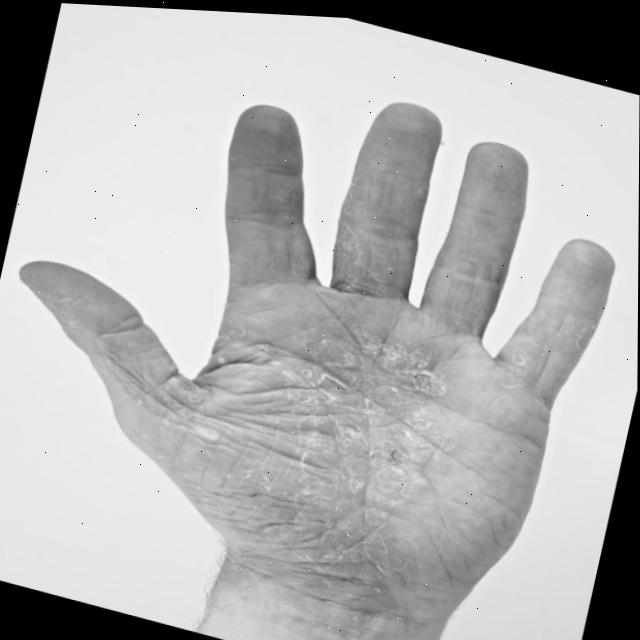Eczema: (144, 250, 470, 593)
